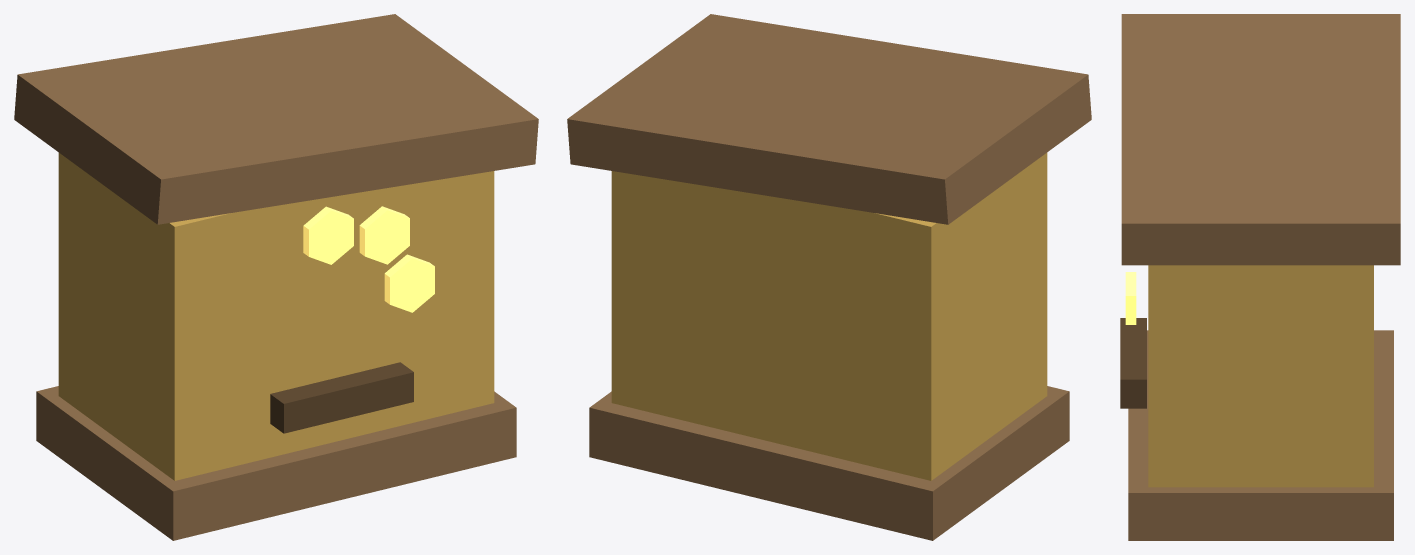
The model's file is orchard_honey_hive.lod1.glb.
3 views of the same model, side by side, from view 1: azimuth 30°, elevation 25°; view 2: azimuth 150°, elevation 25°; view 3: azimuth 270°, elevation 25° (orthographic). The views are drawn at different scales.
Size of the model in its own units: 1.61 by 1.48 by 1.05.
